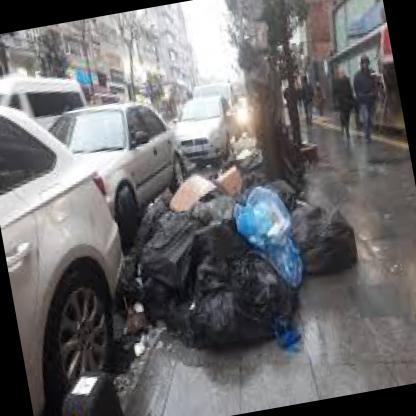Garbage: (118, 174, 309, 361), (224, 184, 358, 292)
